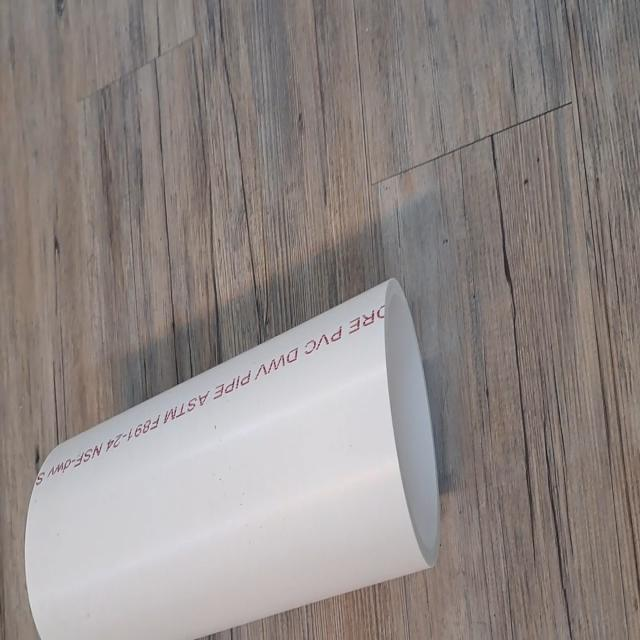CORAL: (21, 271, 448, 640)
